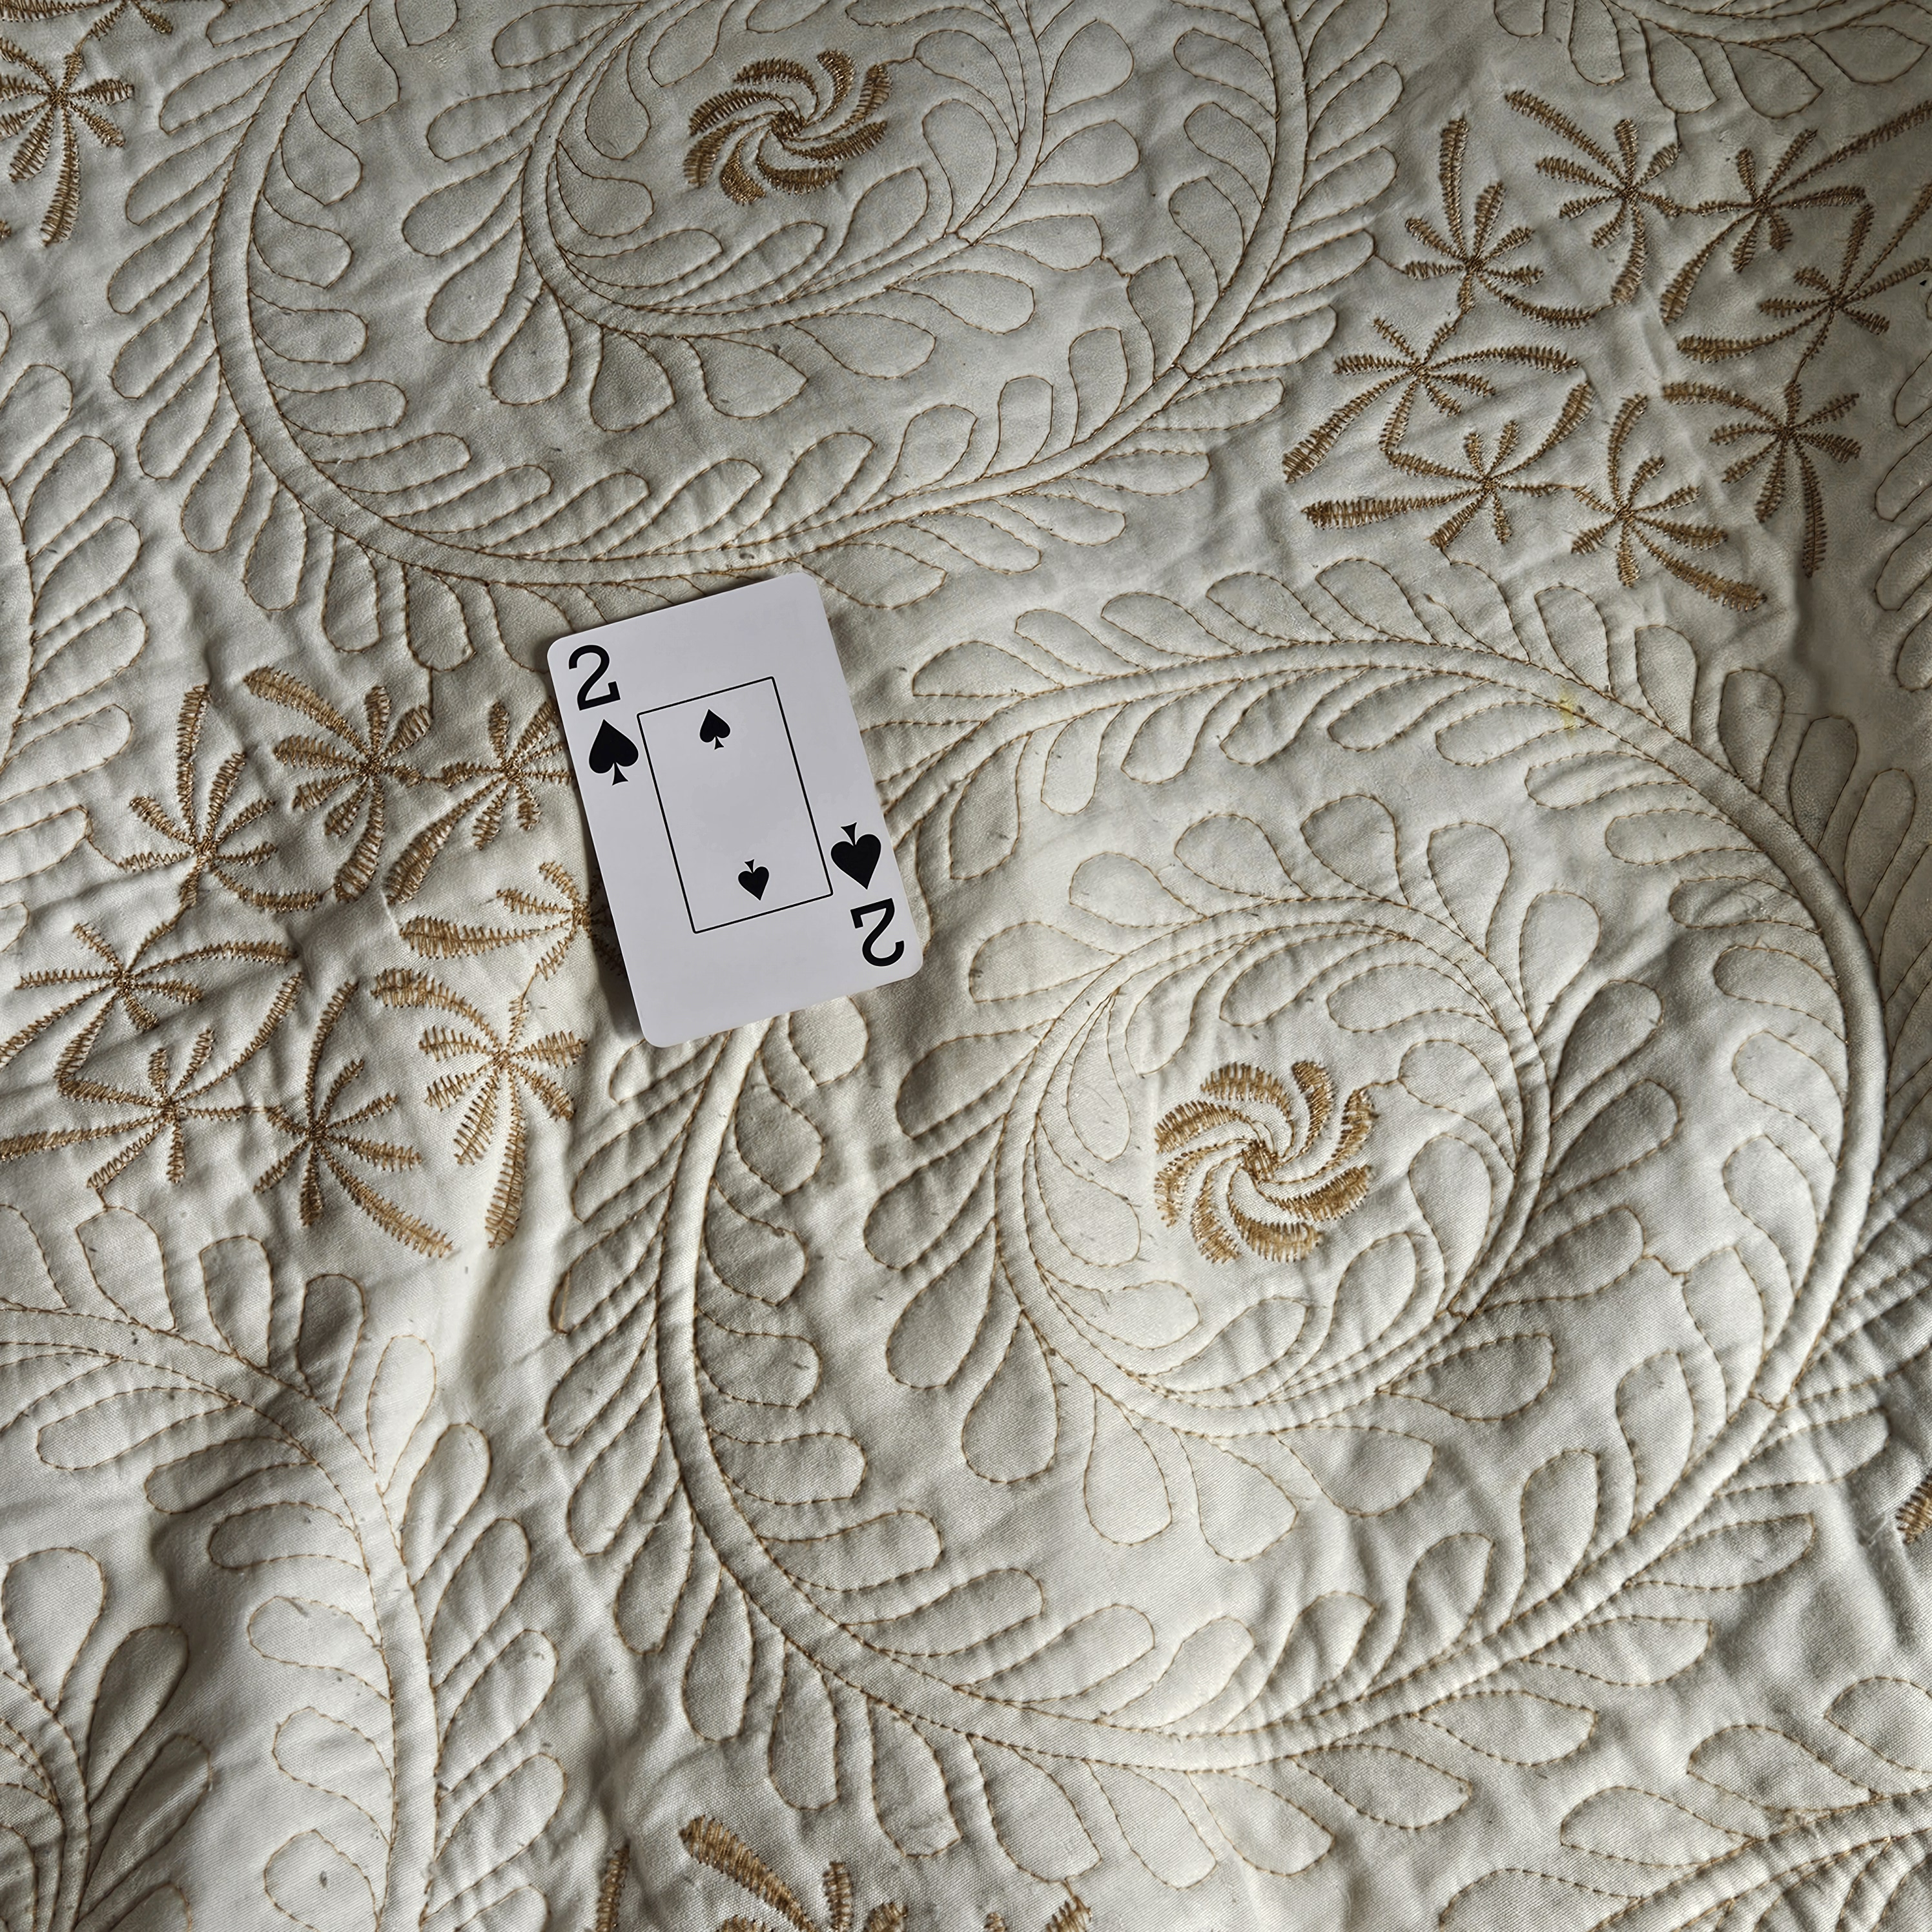2E: (819, 817, 920, 978), (556, 633, 655, 796)
